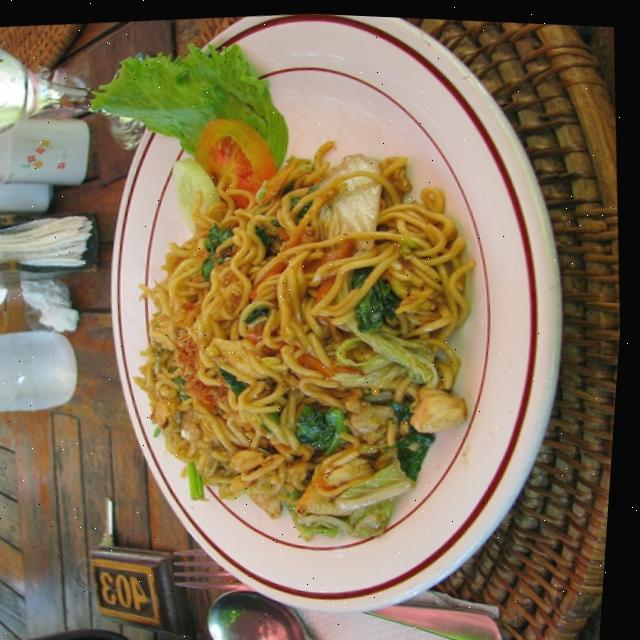面条主食: (34, 30, 609, 627)
